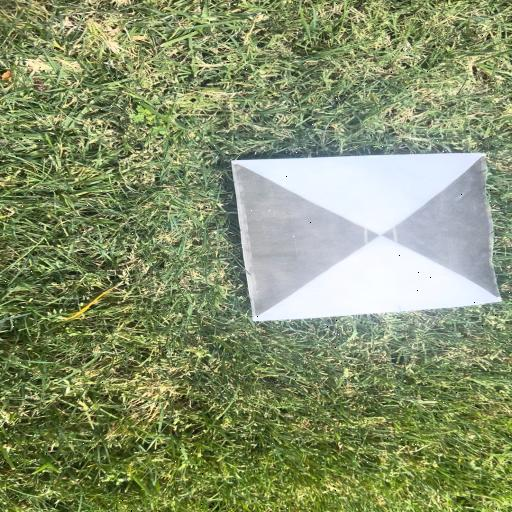target: (233, 153, 503, 321)
